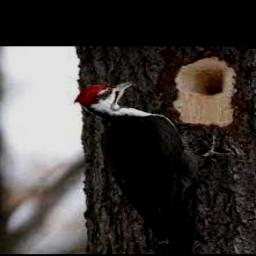Woodpecker: (74, 80, 229, 254)
